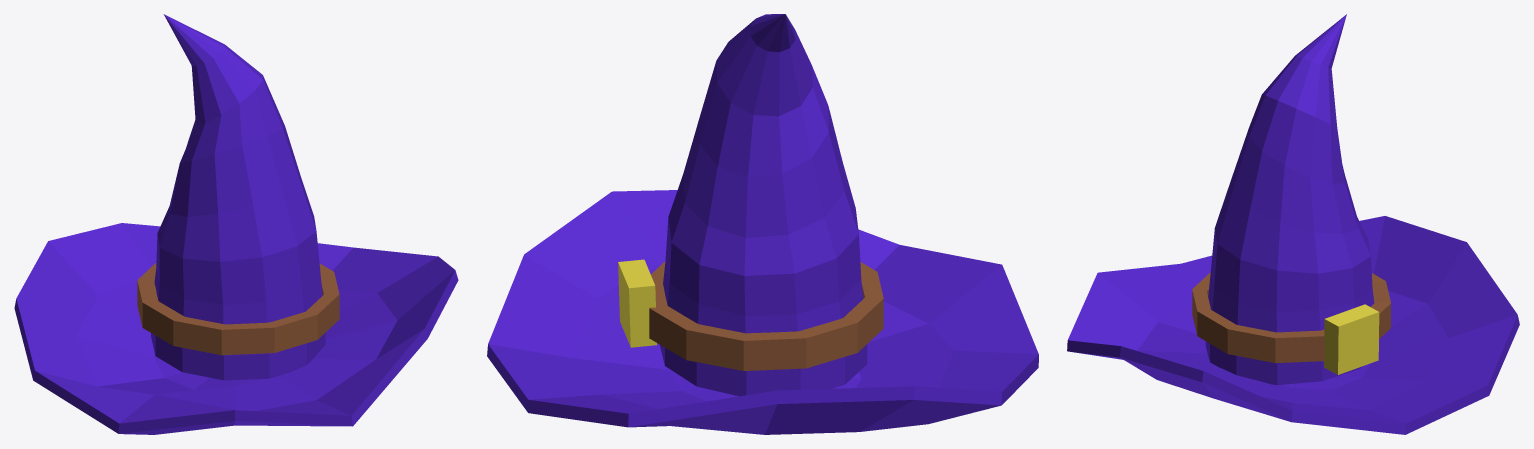
The model's file is witch-hat.glb.
3 renders of one model, left to right at view 1: azimuth 30°, elevation 25°; view 2: azimuth 150°, elevation 25°; view 3: azimuth 270°, elevation 25°, orthographic. The views are drawn at different scales.
Visible parts, largest first — view 1: Circle, Cylinder.002, Cylinder.001; view 2: Circle, Cylinder.002, Cylinder.001, Cube; view 3: Circle, Cylinder.002, Cylinder.001, Cube.
Boxes of the visible parts, <box> form: Circle: <box>14,223,458,434</box>; Cylinder.002: <box>151,14,325,380</box>; Cylinder.001: <box>137,263,339,355</box>; Circle: <box>487,190,1038,434</box>; Cylinder.002: <box>660,14,867,396</box>; Cylinder.001: <box>649,261,883,370</box>; Cube: <box>618,259,657,347</box>; Circle: <box>1067,216,1519,434</box>; Cylinder.002: <box>1205,14,1374,385</box>; Cylinder.001: <box>1192,272,1390,363</box>; Cube: <box>1324,304,1379,374</box>.
Size of the model in its own units: 0.9358 by 0.7802 by 0.9192.
